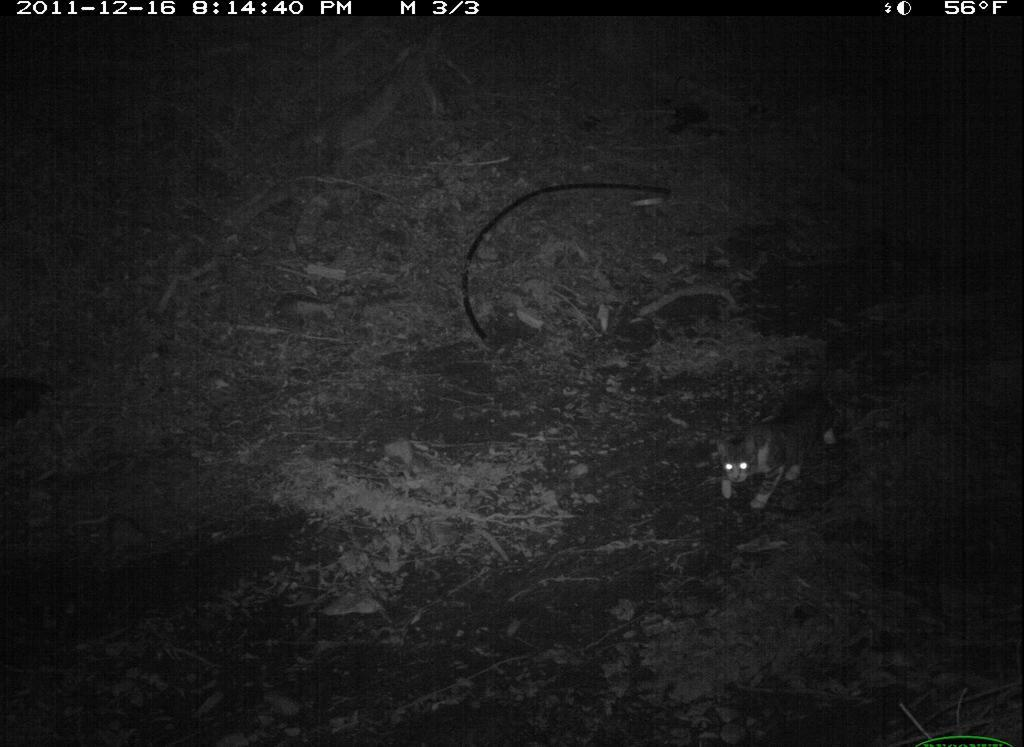cat: (710, 382, 844, 518)
